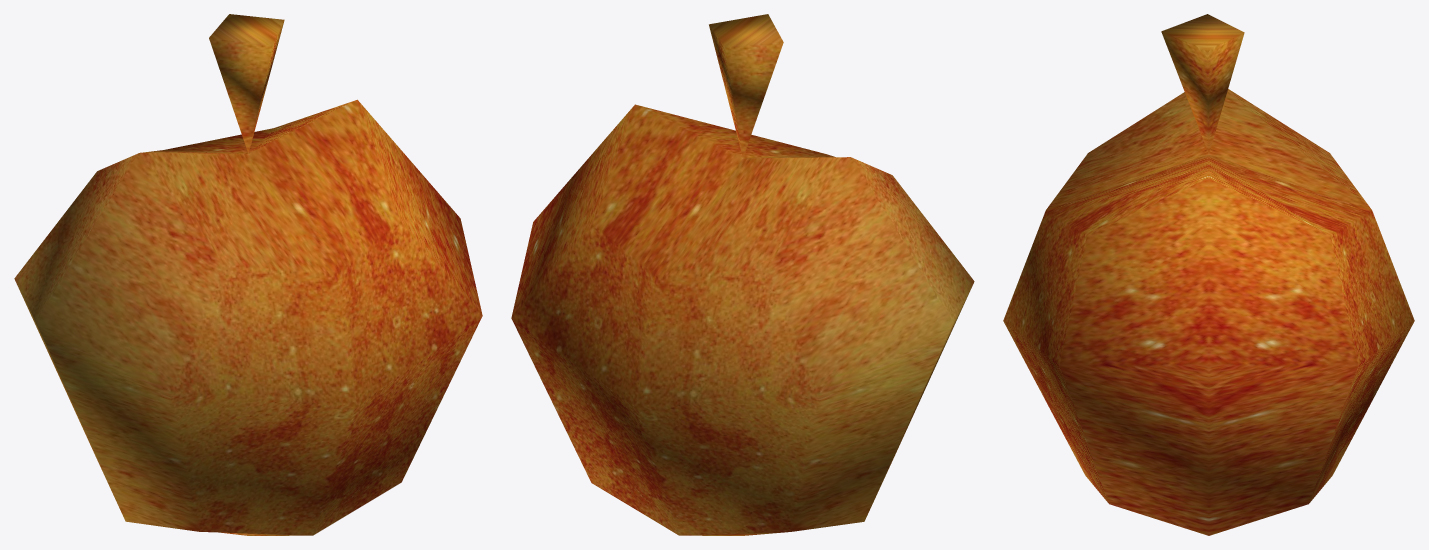
File: Bedroom_apple.glb
3 renders of one model, left to right at view 1: azimuth 30°, elevation 25°; view 2: azimuth 150°, elevation 25°; view 3: azimuth 270°, elevation 25°, orthographic. The views are drawn at different scales.
Visible parts, largest first — view 1: Cube.032; view 2: Cube.032; view 3: Cube.032.
Part boxes in pixels (<box>): Cube.032: <box>14,14,482,535</box>; Cube.032: <box>511,14,974,535</box>; Cube.032: <box>1003,14,1414,535</box>.
Bounding box in the file's own units: 0.252 × 0.2893 × 0.2206.
Materials: 1 (1 with a texture image).
